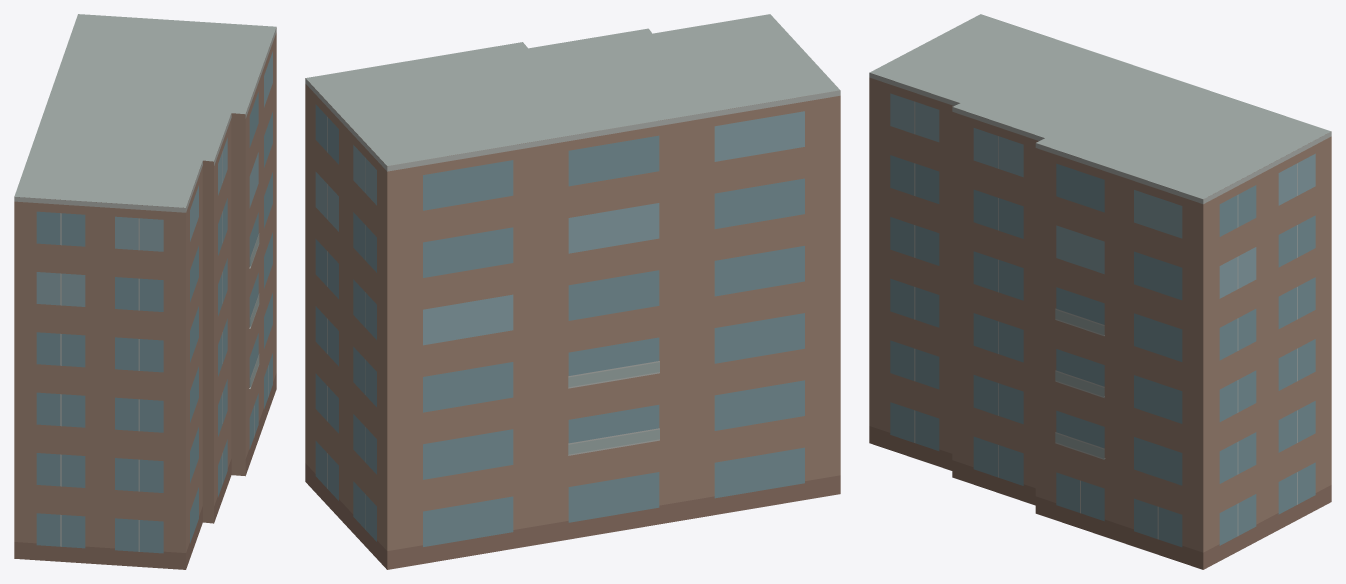
The model's file is survey-upis-32560961.glb.
The picture shows the model from 3 angles, left to right: view 1: azimuth 30°, elevation 25°; view 2: azimuth 150°, elevation 25°; view 3: azimuth 270°, elevation 25°; orthographic projection. The views are drawn at different scales.
Visible parts, largest first — view 1: survey-upis-32560961.tmp; view 2: survey-upis-32560961.tmp; view 3: survey-upis-32560961.tmp.
Boxes of the visible parts, <box> form: survey-upis-32560961.tmp: <box>14,14,276,569</box>; survey-upis-32560961.tmp: <box>305,14,840,569</box>; survey-upis-32560961.tmp: <box>869,14,1331,569</box>.
Size of the model in its own units: 19.64 by 18.3 by 20.69.
